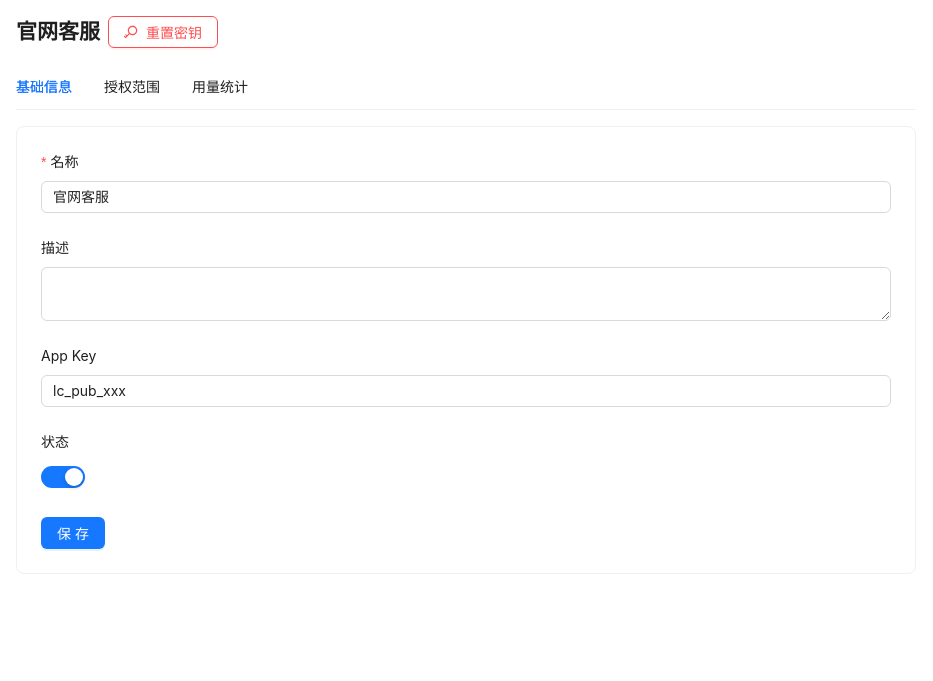
Test case: ExternalAppDetailPage — agent/team whitelist › shows a warning Alert when both whitelists are empty
The width and height of the screenshot is (933, 681).
Click the tab "授权范围".
click(132, 87)  # box [104,76,160,98]
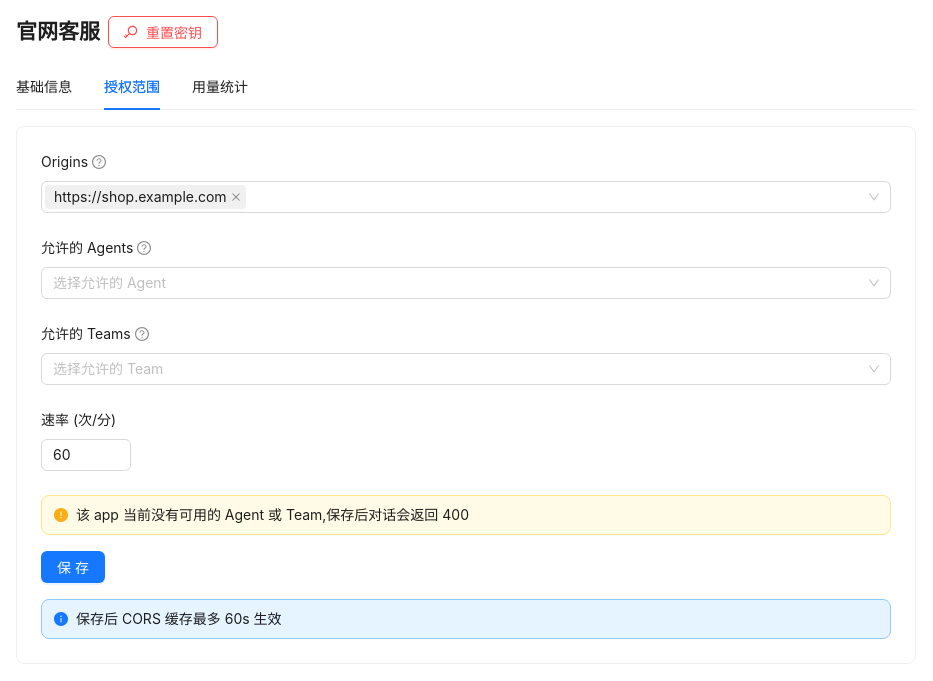
Expected: the text "该 app 当前没有可用的 Agent 或 Team,保存后对话会返回 400" is shown, [76,506,469,523]
